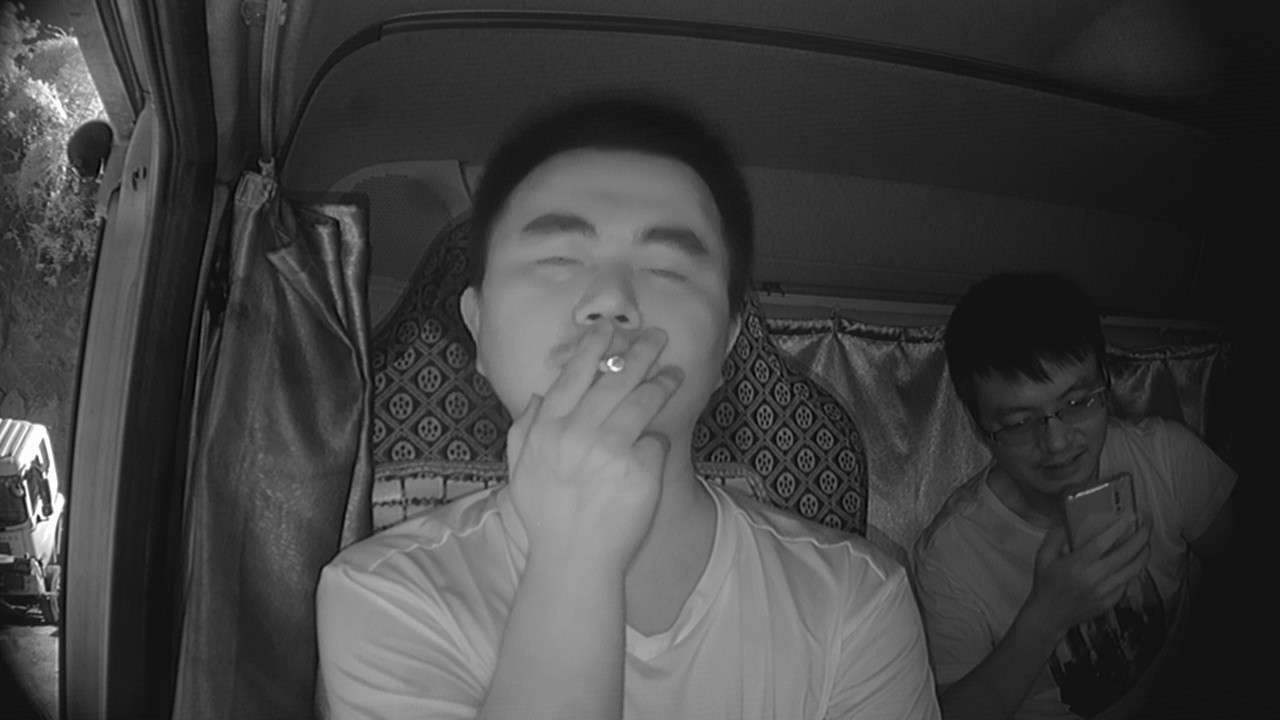hand: (506, 326, 682, 534)
